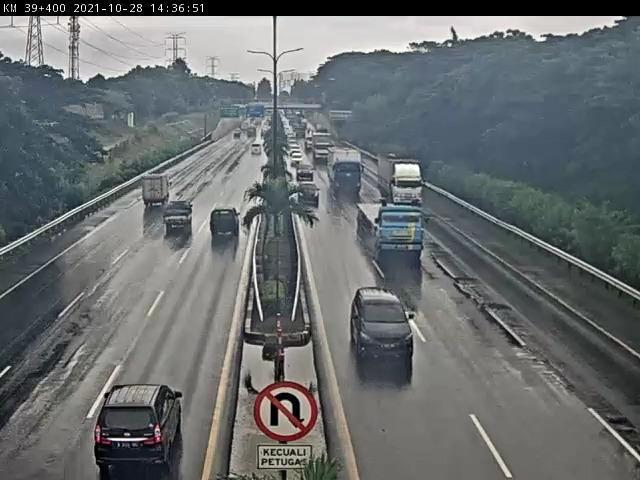car: (102, 383, 181, 468), (354, 288, 409, 355), (200, 205, 255, 250), (301, 179, 322, 200), (296, 164, 315, 175), (180, 234, 187, 241)
truck: (359, 204, 423, 248), (380, 149, 423, 206), (329, 146, 366, 189), (132, 177, 166, 210), (163, 210, 189, 240)
